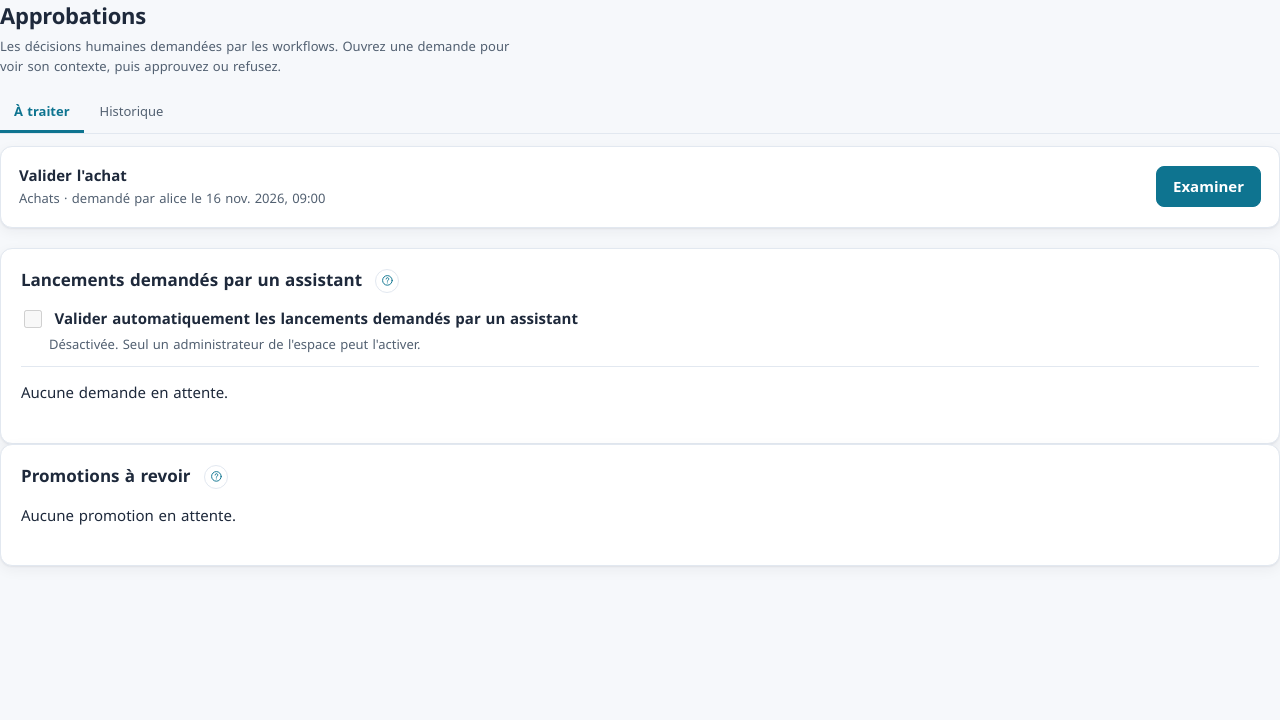
Test: Approbations : fenêtre d'une demande › est centrée, élargie, et composée de deux onglets
The width and height of the screenshot is (1280, 720).
What coordinates should you click on to do the following:
click the button with aria-label "Examiner : Valider l'achat"
I would click on:
 (1208, 187)
Its box is [1156,166,1261,207].
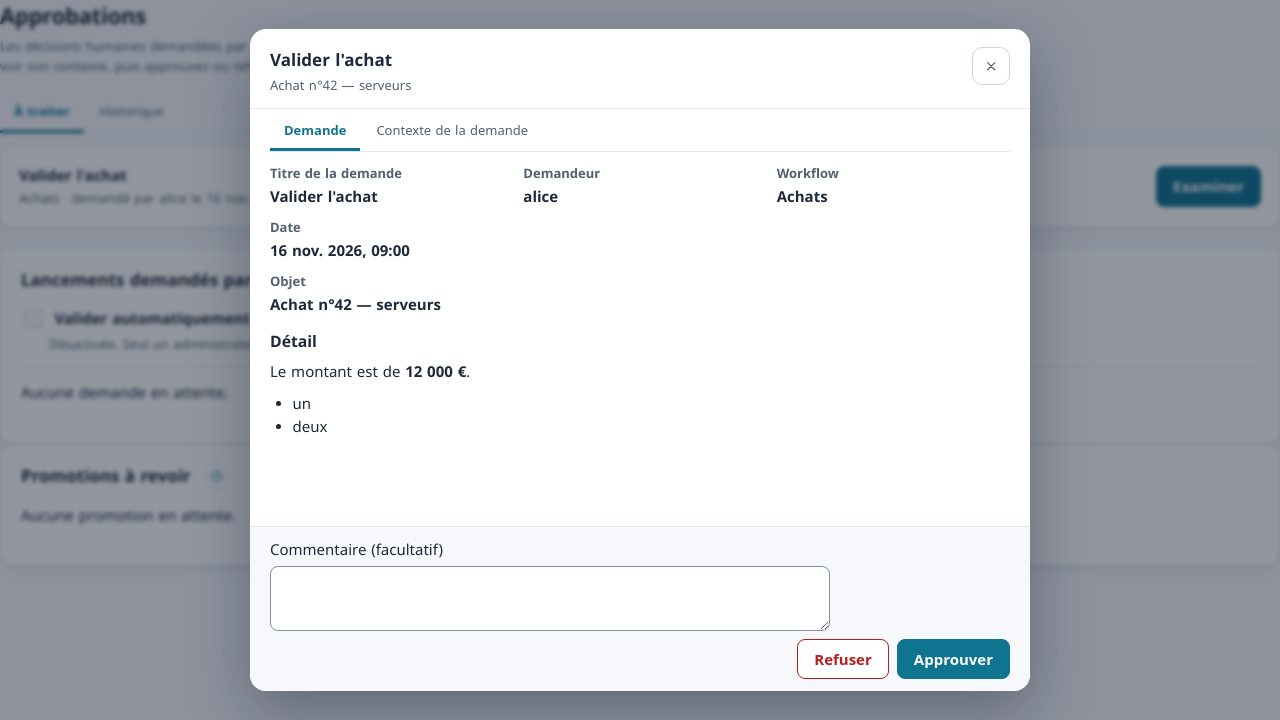
Expected: the tabs read "Demande", "Contexte de la demande", in this order, [270,113,360,151]; [362,113,542,151]
